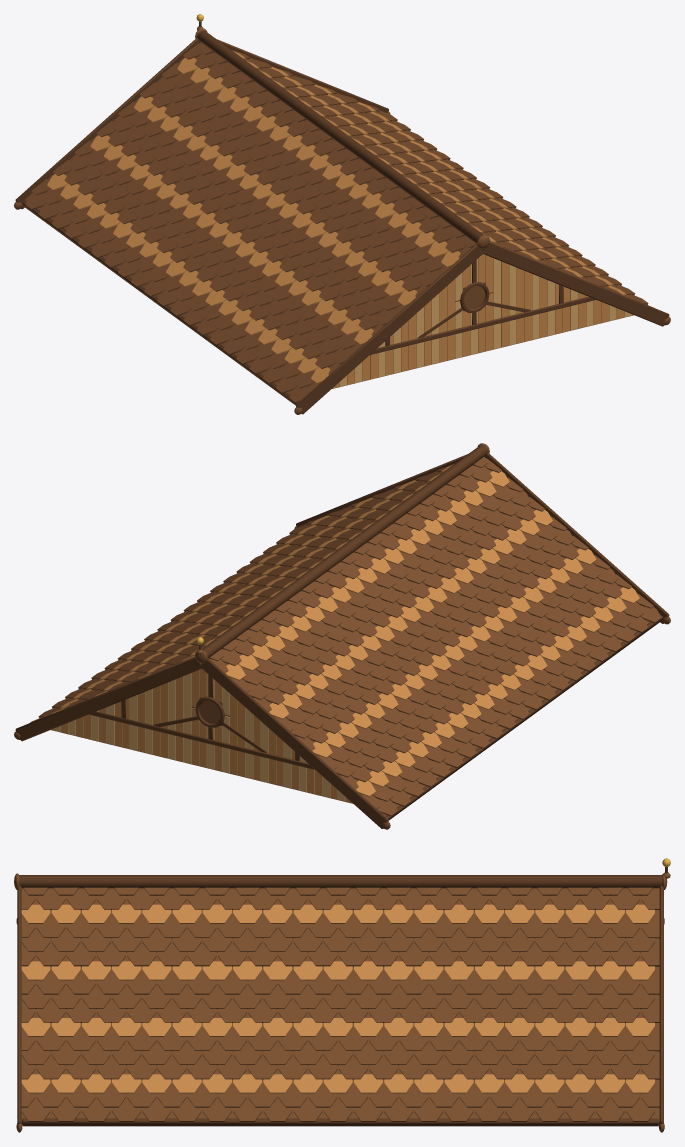
The model's file is ShopRoof.fbx.
3 views of the same model, one above another, from view 1: azimuth 30°, elevation 25°; view 2: azimuth 150°, elevation 25°; view 3: azimuth 270°, elevation 25° (orthographic). The views are drawn at different scales.
Visible parts, largest first — view 1: ShopRoof; view 2: ShopRoof; view 3: ShopRoof.
Boxes of the visible parts, left/top/right/bottom form: ShopRoof: left=14, top=14, right=670, bottom=414; ShopRoof: left=14, top=443, right=670, bottom=829; ShopRoof: left=14, top=858, right=670, bottom=1132.
Bounding box in the file's own units: 14.72 × 5.58 × 19.45.
